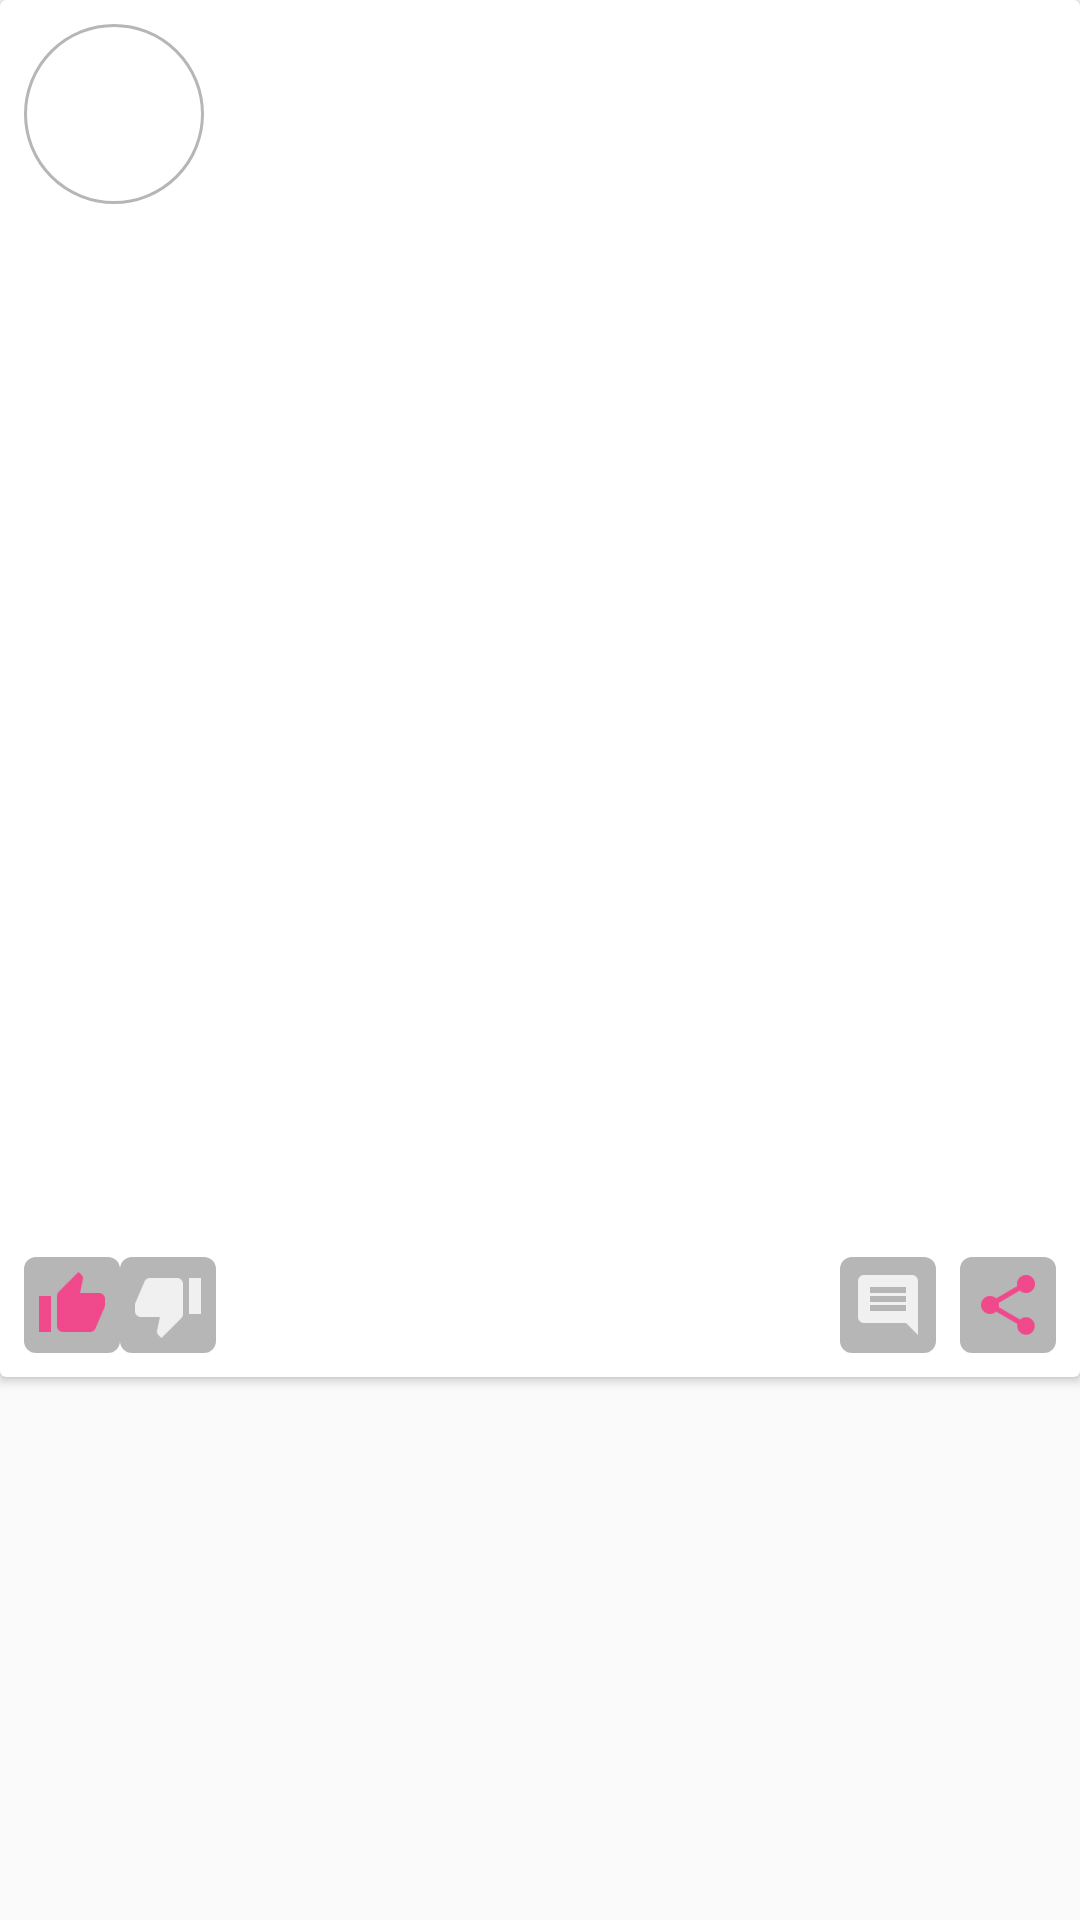

Where icons sit on this 1080px x 1920px app screen, as box=[x1, y1, x2, y2]:
comment: box=[840, 1257, 936, 1353]
down: box=[120, 1257, 216, 1353]
like: box=[24, 1257, 120, 1353]
share: box=[960, 1257, 1056, 1353]
